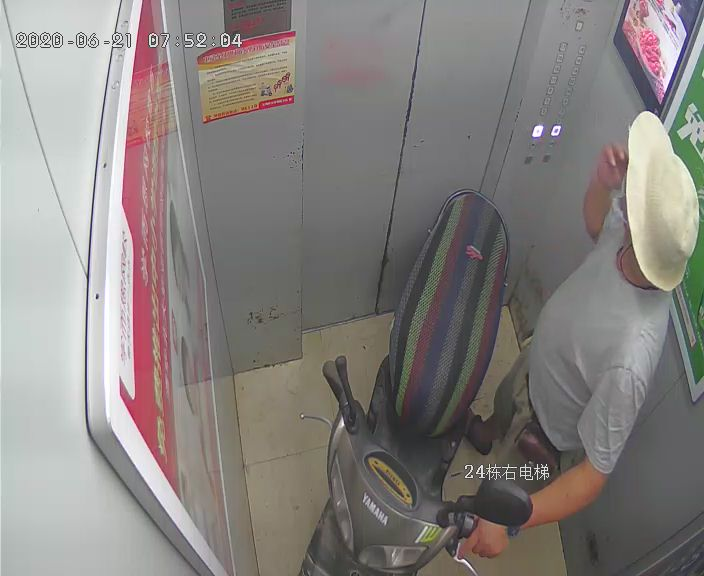Electric-bicycle: (299, 188, 537, 576)
